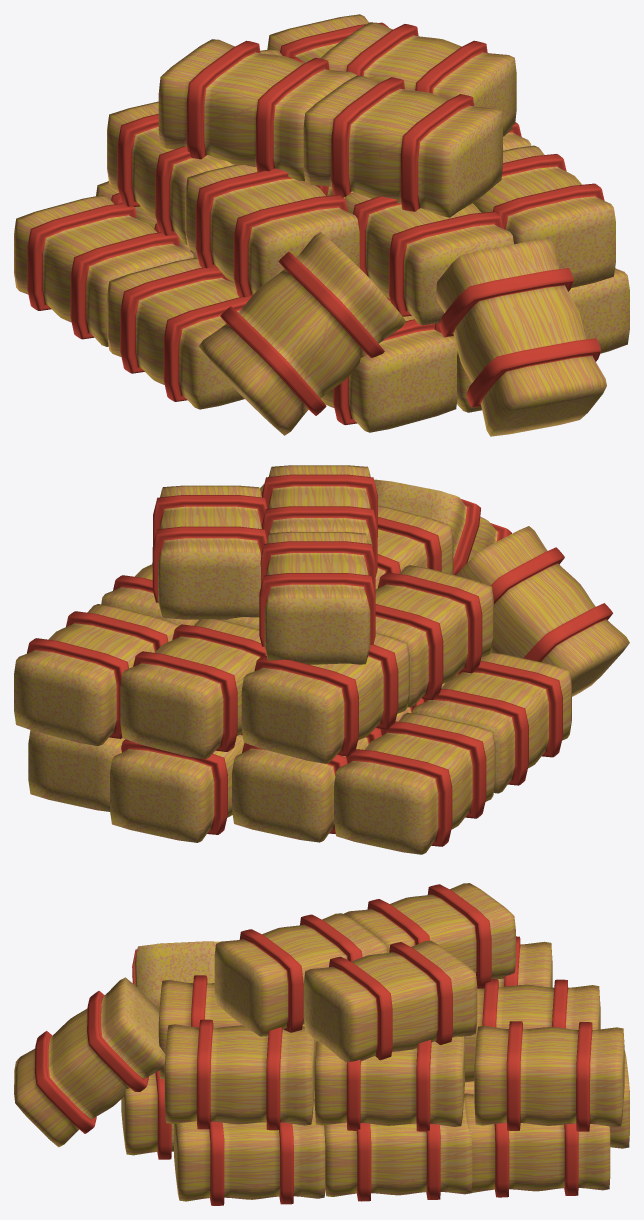
Rendered from fajos.fbx.
3 renders of one model, top to bottom at view 1: azimuth 30°, elevation 25°; view 2: azimuth 150°, elevation 25°; view 3: azimuth 270°, elevation 25°, orthographic. The views are drawn at different scales.
Visible parts, largest first — view 1: Cube.023, Cube.001; view 2: Cube.023, Cube.001; view 3: Cube.023, Cube.001.
Boxes of the visible parts, x1,y1,x2,y2 form: Cube.023: (14, 14, 629, 435); Cube.001: (436, 239, 606, 436); Cube.023: (14, 465, 629, 854); Cube.001: (374, 479, 511, 575); Cube.023: (121, 883, 629, 1205); Cube.001: (14, 977, 165, 1147).
Bounding box in the file's own units: 191 × 102 × 281.
